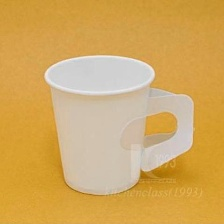paper_cup: (38, 50, 198, 199)
